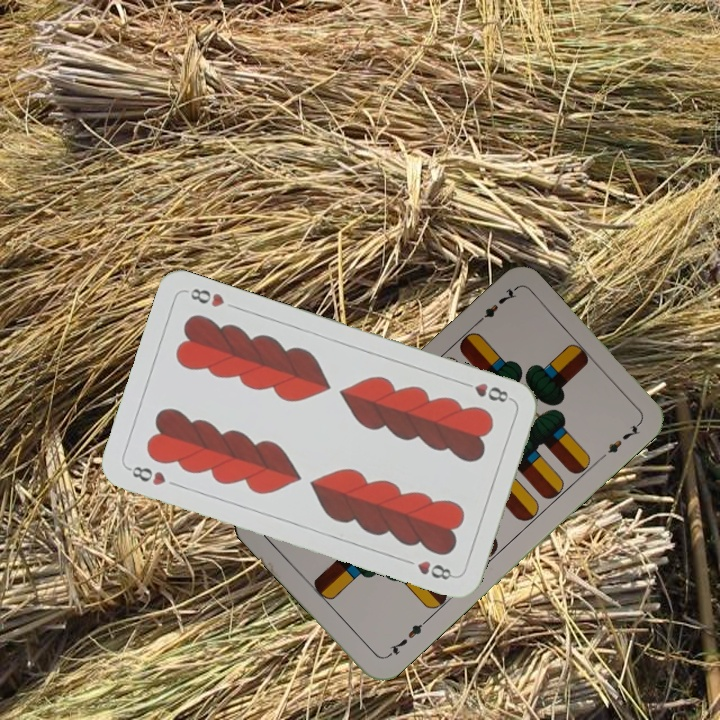E7: (470, 284, 519, 329), (382, 616, 430, 661)
H8: (457, 377, 515, 405), (124, 462, 169, 488)
